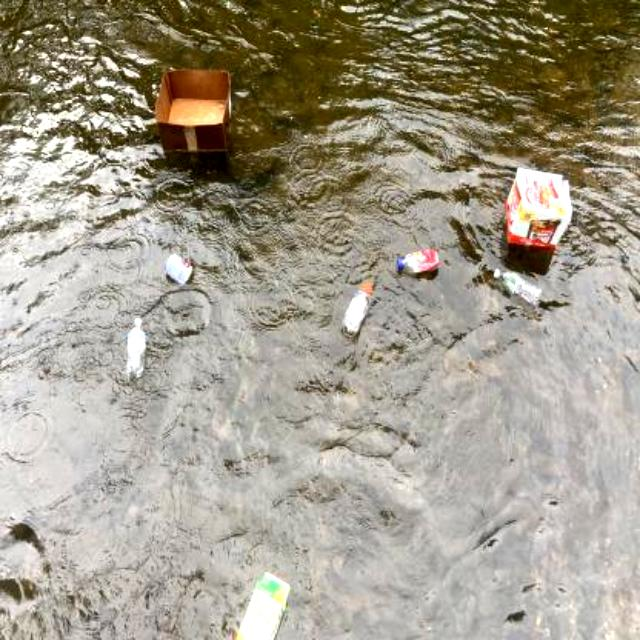Cardboard: (150, 62, 236, 158), (498, 165, 574, 255), (234, 566, 296, 640)
Metal: (163, 250, 199, 290)
Plastic: (491, 264, 544, 316), (338, 275, 374, 341), (122, 312, 148, 386), (391, 244, 443, 280)
